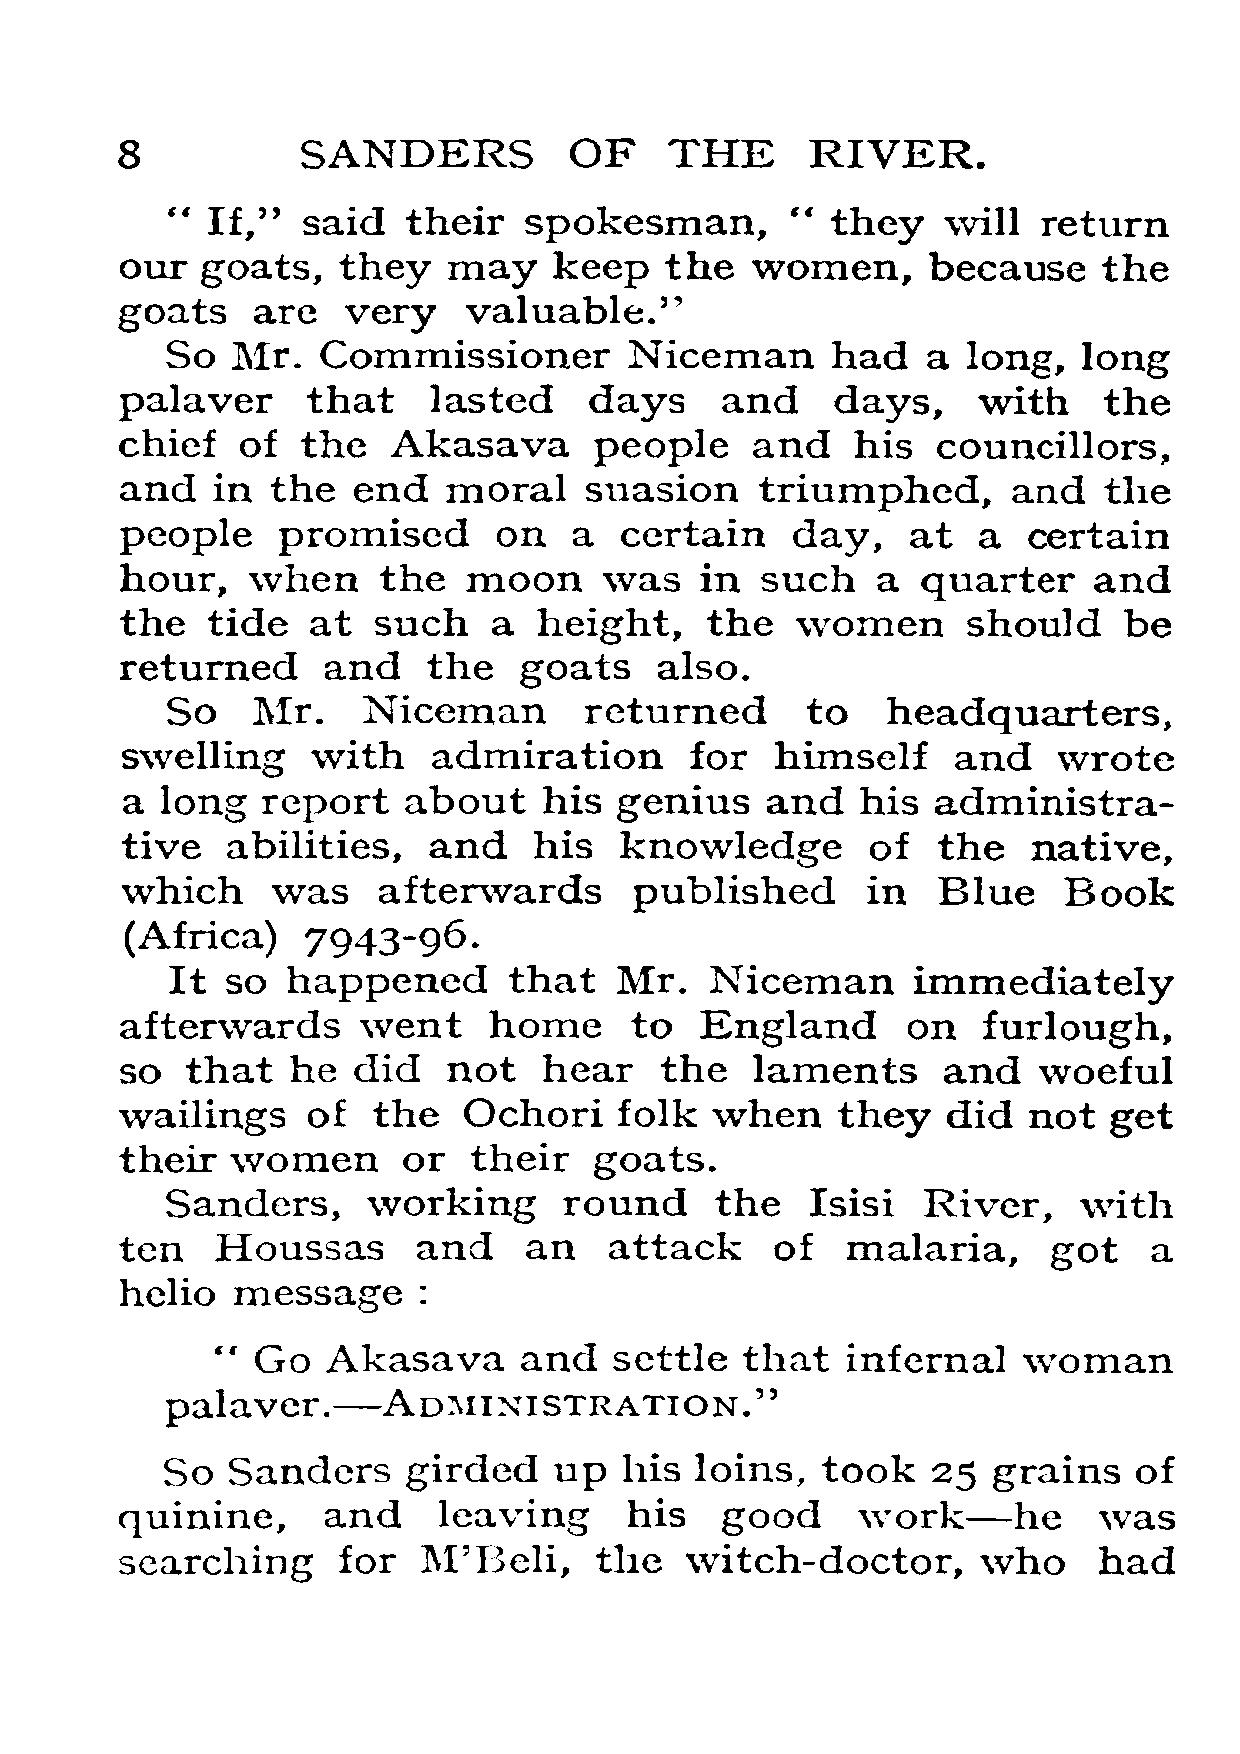content: (111, 195, 1181, 1584)
content_chapter: (293, 133, 986, 176)
content_pagenumber: (107, 132, 144, 172)
